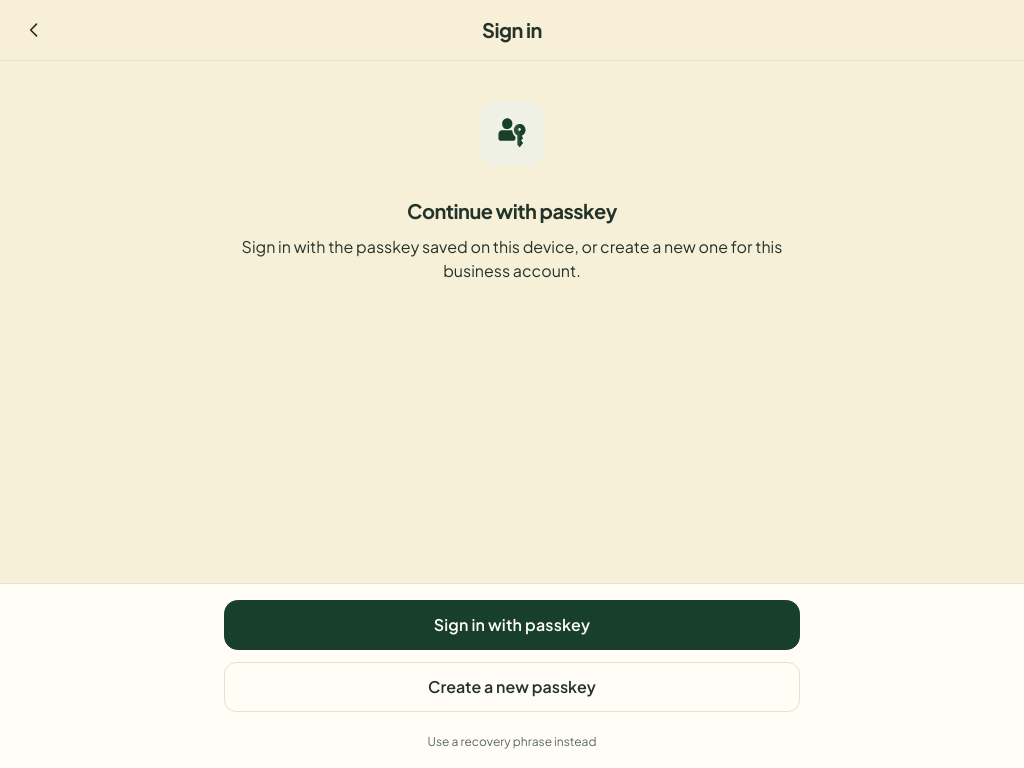
Test: PasskeyPage › creates a passkey, saves the label and derives the wallet in separate user steps
Later steps or results of the test are not shown.
Click the button with test id "passkey-create-button": click(512, 687) [224, 662, 800, 712]
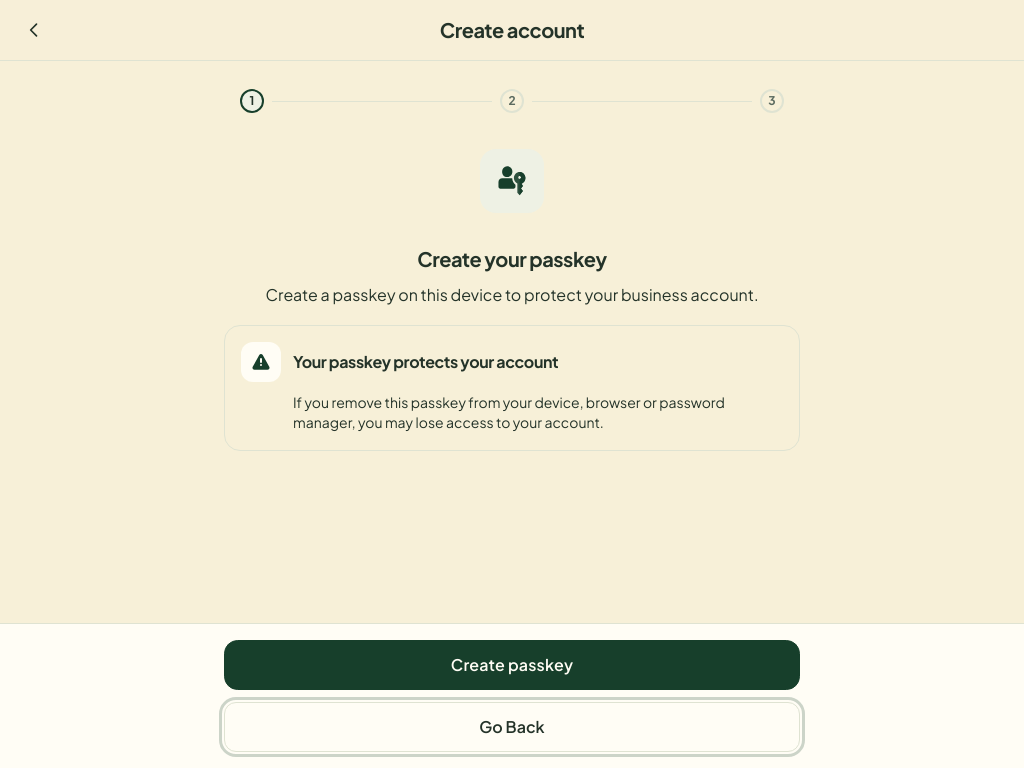
Now the heading "Create your passkey" is shown, box [417, 246, 607, 271]
Click the button with test id "passkey-create-confirm-button": click(512, 665) [224, 640, 800, 690]
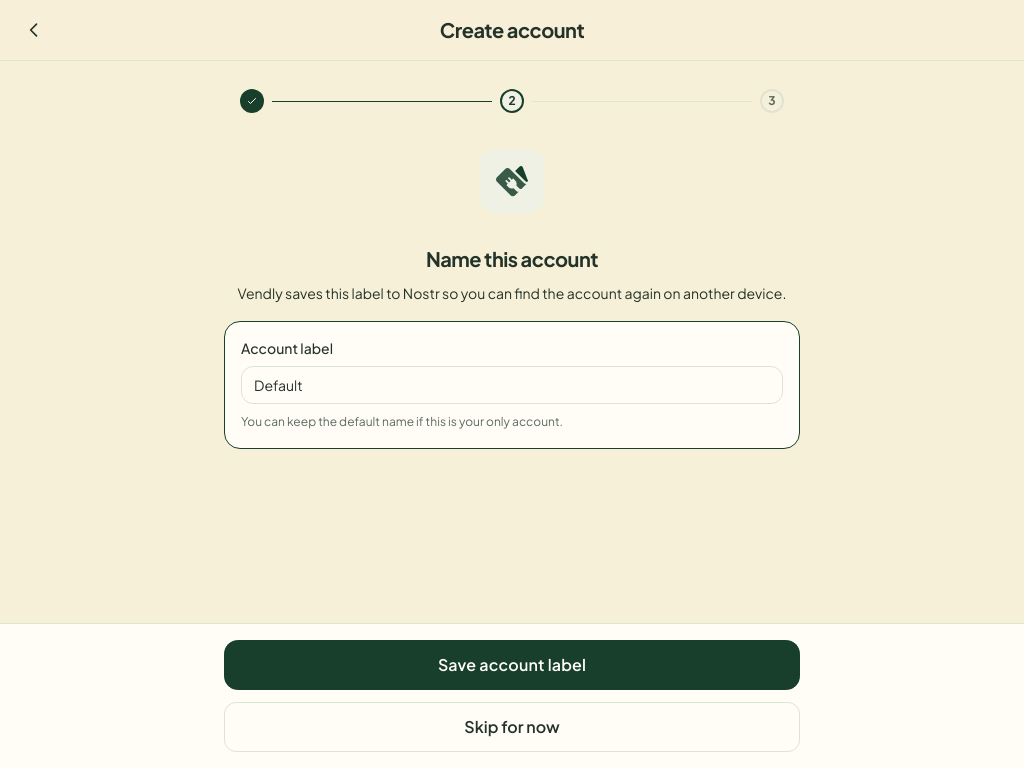
Now the heading "Name this account" is shown, box [426, 246, 598, 271]
Now the field with test id "passkey-label-input" holds "Default", box [241, 366, 783, 404]
Click the button with test id "passkey-save-label-button": click(512, 665) [224, 640, 800, 690]
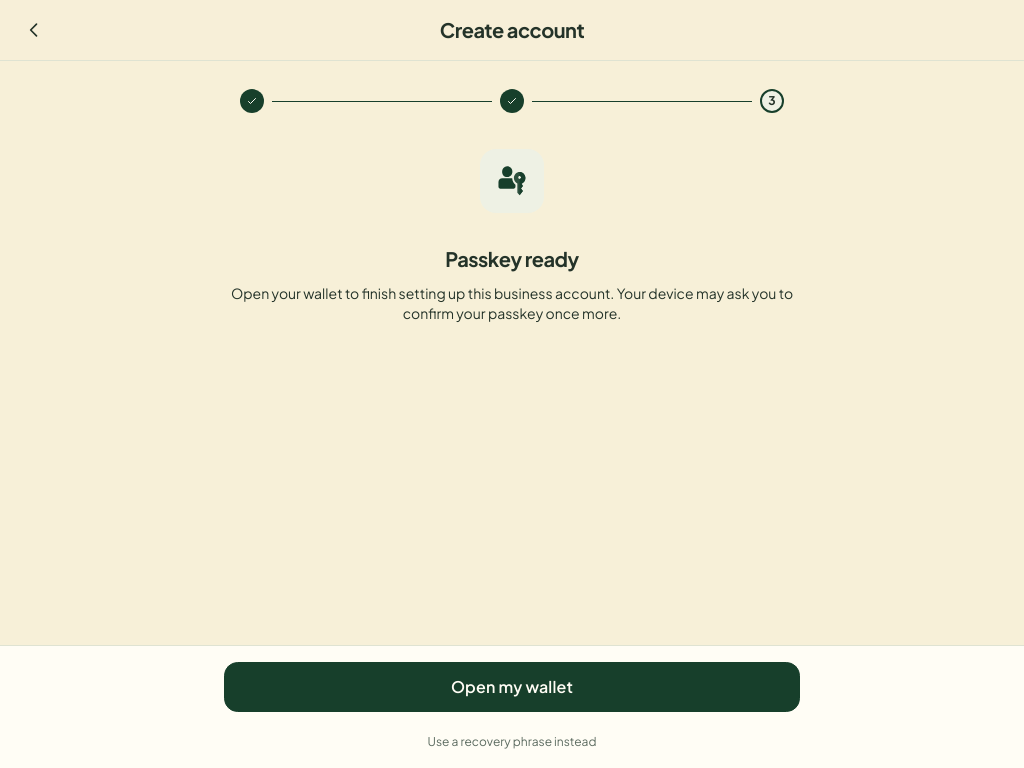
Now the heading "Passkey ready" is shown, box [445, 246, 579, 271]
